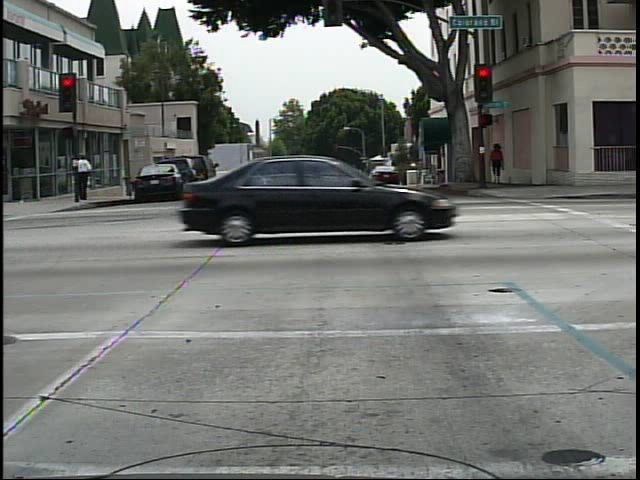person: (69, 147, 97, 209), (488, 137, 510, 188)
